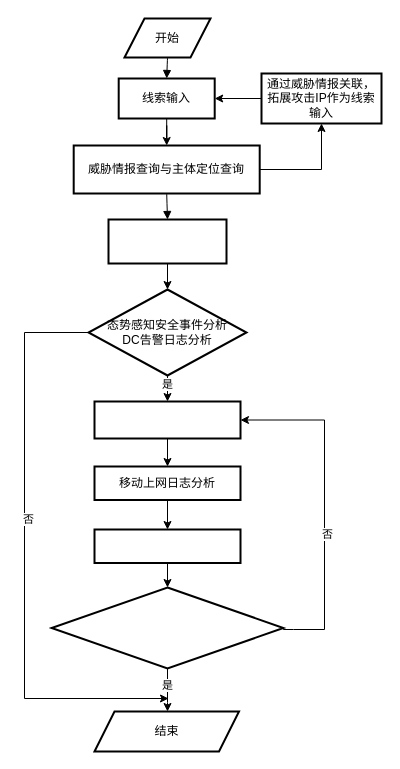
Some shapes in this 400 by 769 pixel diagram are drawn without their labels. Here are the shapes that lost their labels. From the top down, the centre of each, then its label:
At pixel 167 241: "日志拉取".
At pixel 167 419: "IDC访问日志、NetFlow日志分析".
At pixel 167 546: "DNS日志分析".
At pixel 167 627: "1. 攻击链条闭环 2.缺乏数据、证据支撑 3.不符合WEB攻击场景".
